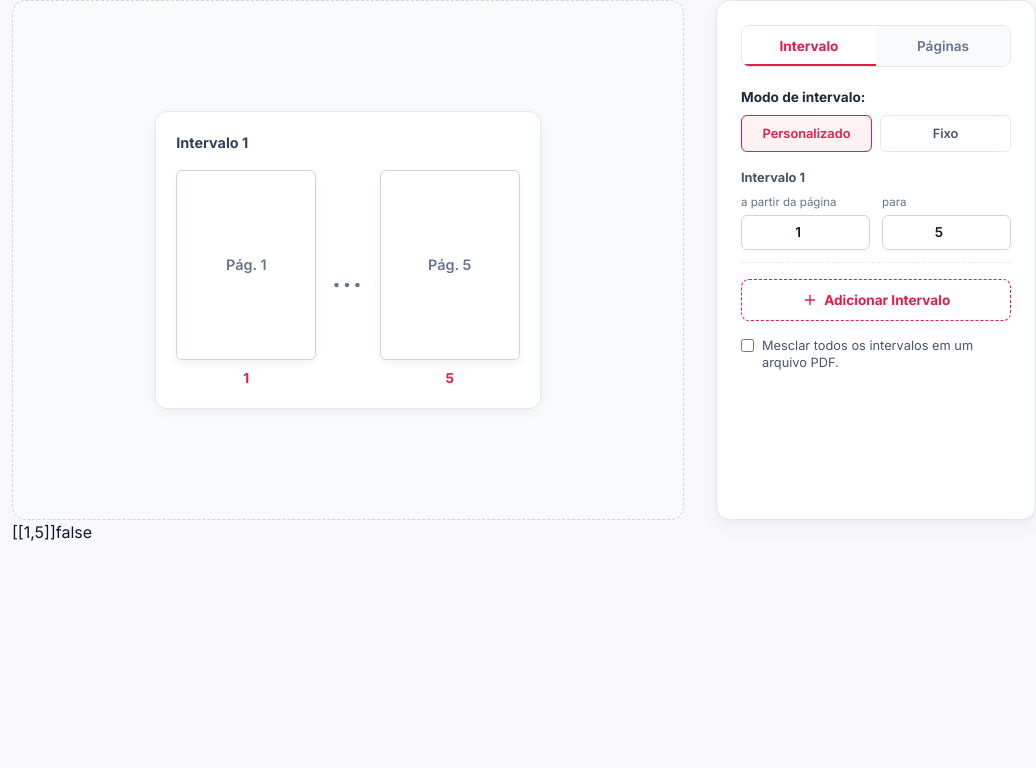
SplitPdfPanel › divide em blocos e preserva o último intervalo incompleto
This screenshot has width=1036, height=768.
Click the button "Fixo" at (946, 134), box [880, 115, 1011, 152]
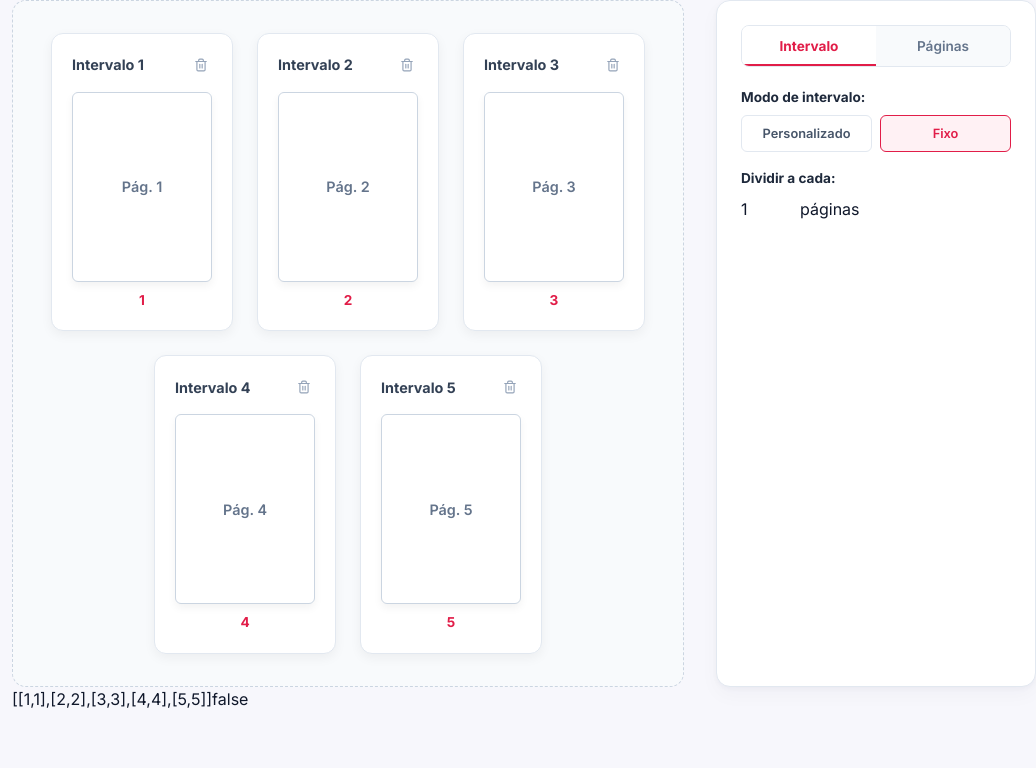
Replace the text in the number field labelled "Dividir a cada:" with "2" at (770, 208), box [741, 196, 800, 220]
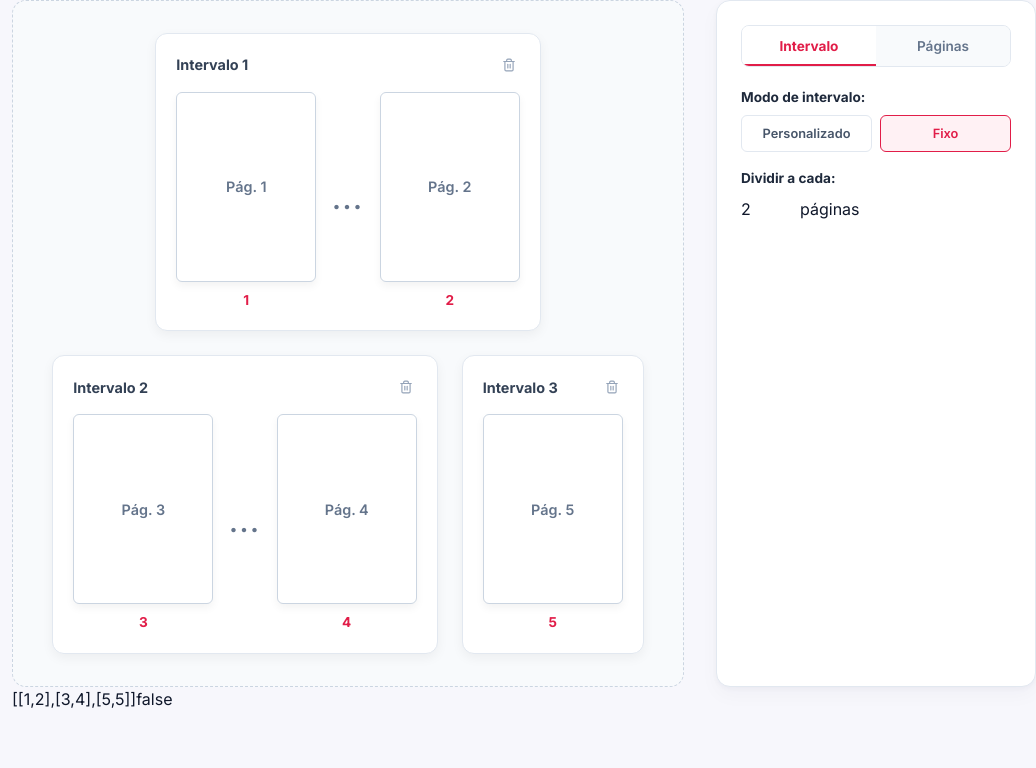
Expected: the text named "Intervalos de saída" reads "[ [1,2],[3,4],[5,5]]", [12, 689, 136, 709]
